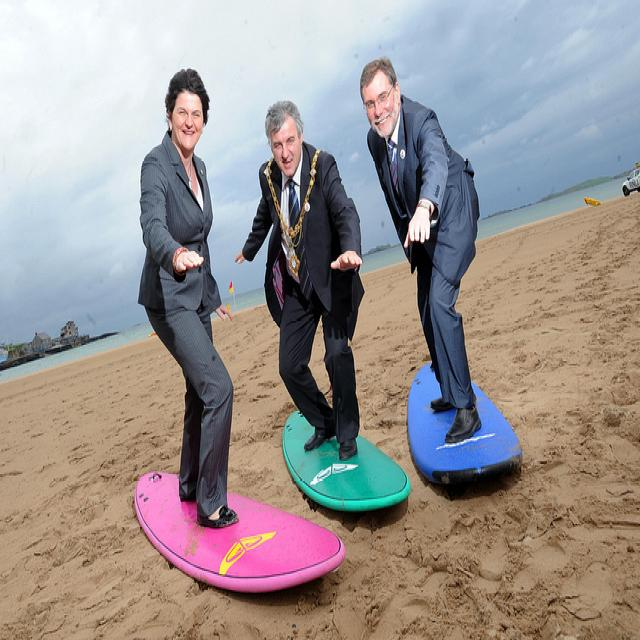Vehicle: (621, 166, 640, 196)
